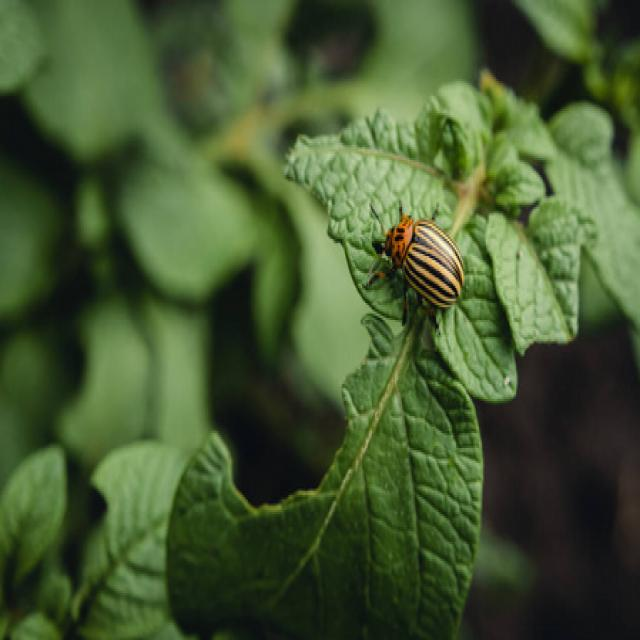ShuCaiHuaBanChong-Grown-: (353, 208, 481, 329)
